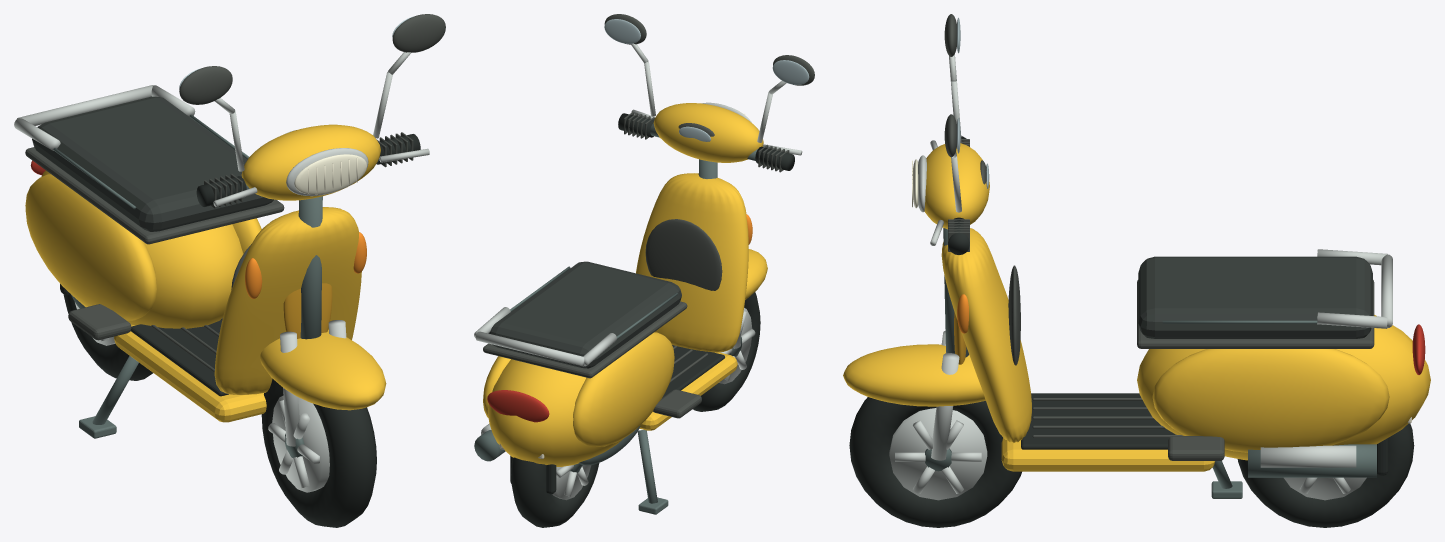
The model's file is yellow-scooty.glb.
3 views of the same model, side by side, from view 1: azimuth 30°, elevation 25°; view 2: azimuth 150°, elevation 25°; view 3: azimuth 270°, elevation 25° (orthographic). The views are drawn at different scales.
Visible parts, largest first — view 1: Sunflower yellow paint, Seat black vinyl, Rubber, Silver aluminium, Black trim, Dark steel, Headlight glass, Mustard shadow paint, Amber indicator; view 2: Sunflower yellow paint, Seat black vinyl, Black trim, Rubber, Silver aluminium, Dark steel, Mirror glass, Red tail light; view 3: Sunflower yellow paint, Rubber, Seat black vinyl, Silver aluminium, Black trim, Dark steel.
Boxes of the visible parts, x1,y1,x2,y2 form: Sunflower yellow paint: (25,124,386,422); Seat black vinyl: (32,96,273,231); Rubber: (60,134,420,527); Silver aluminium: (14,52,429,492); Black trim: (25,14,445,372); Dark steel: (53,114,379,458); Headlight glass: (294,154,367,194); Mustard shadow paint: (283,283,332,338); Amber indicator: (245,232,366,298); Sunflower yellow paint: (483,103,767,466); Seat black vinyl: (489,261,681,368); Black trim: (483,14,814,418); Rubber: (510,113,794,527); Silver aluminium: (474,43,802,500); Dark steel: (474,123,757,514); Mirror glass: (604,19,809,141); Red tail light: (487,390,549,422); Sunflower yellow paint: (843,143,1430,471); Rubber: (849,136,1414,527); Seat black vinyl: (1138,256,1372,338); Silver aluminium: (889,54,1392,500); Black trim: (944,14,1374,460); Dark steel: (925,228,1376,498).
Bounding box in the file's own units: 1.15 × 1.97 × 2.28.
